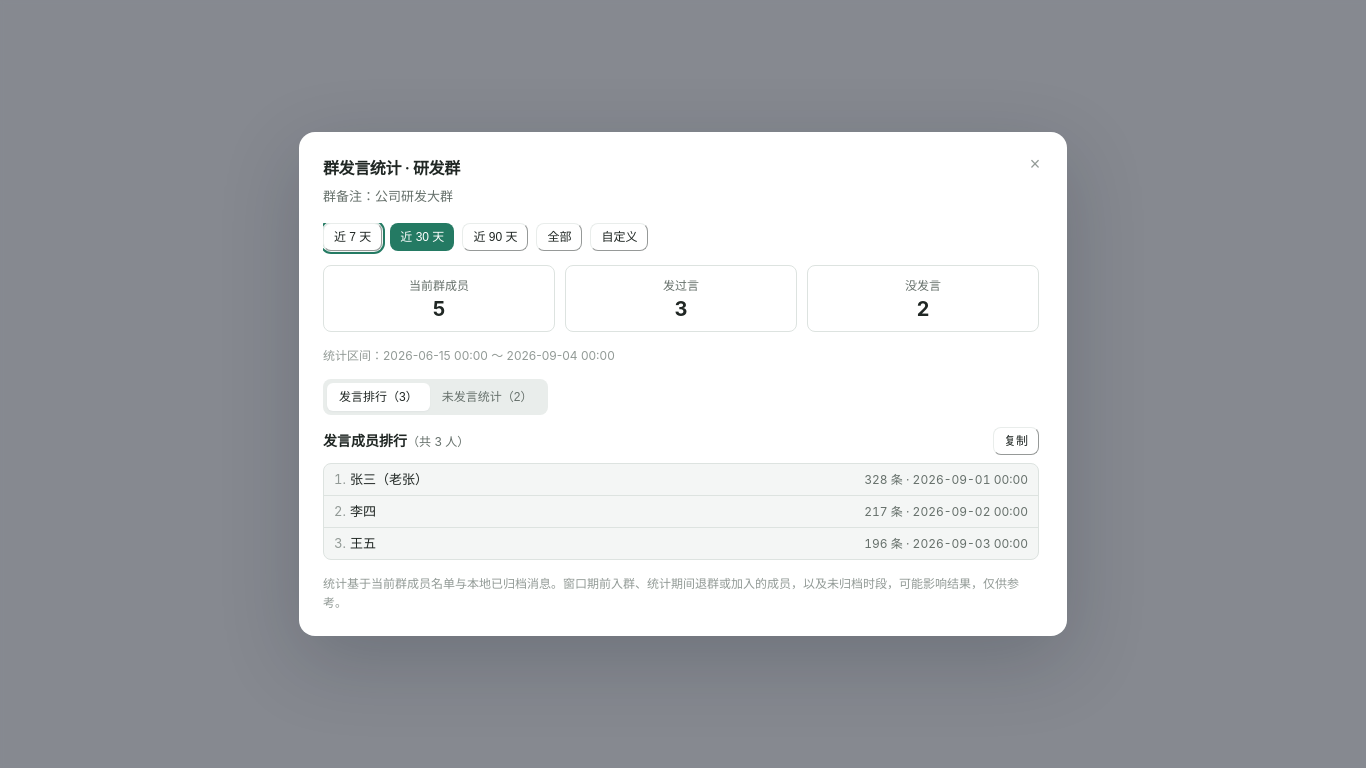
Test: GroupMemberStatsDialog › 切到「未发言统计」tab 后才展示未发言名单
Expected: the text "1.张三（老张）" is shown, [334,469,428,490]
Click the tab "未发言统计（2）".
click(487, 397)  # box [430,383,544,411]
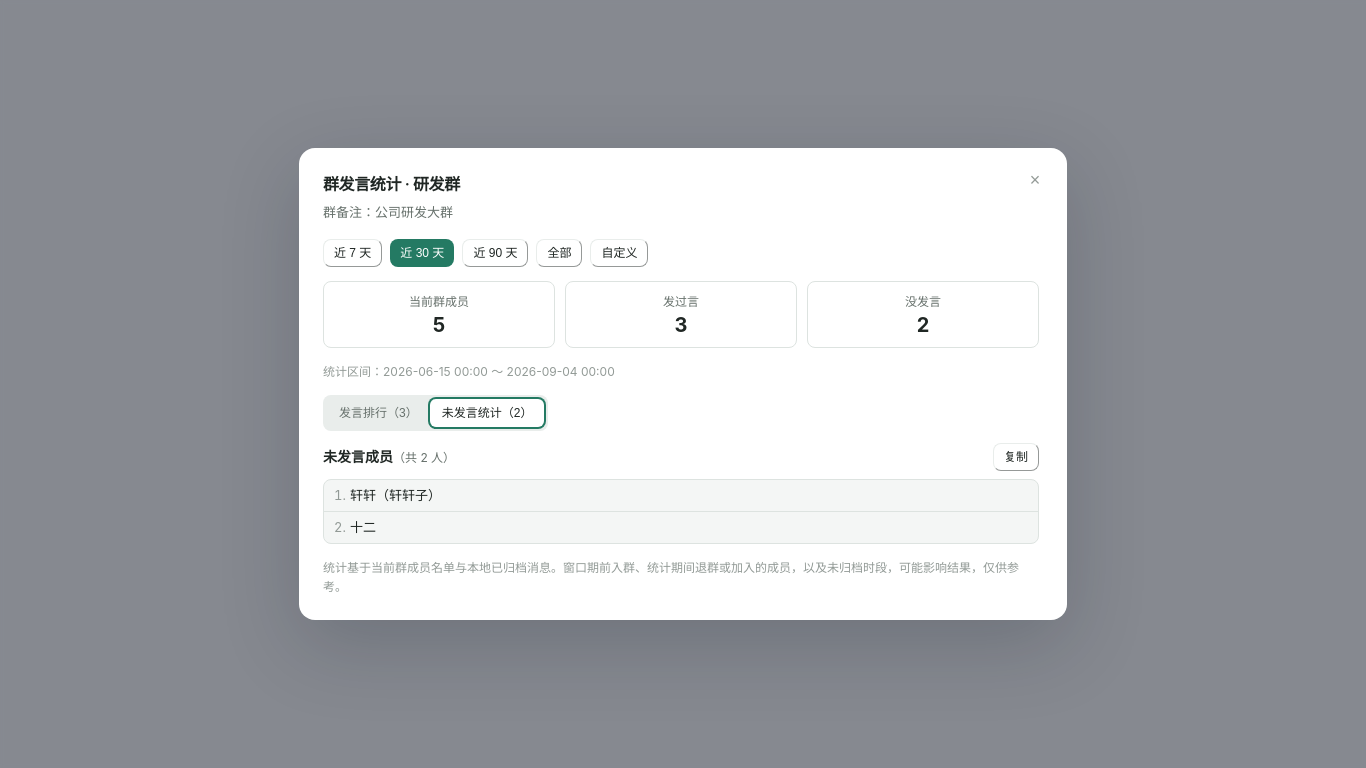
Result: the text "1.轩轩（轩轩子）" is shown at [334,485,441,506]
Result: the text "2.十二" is shown at [334,517,376,538]
Result: the text "（共 2 人）" is shown at [393,450,455,465]
